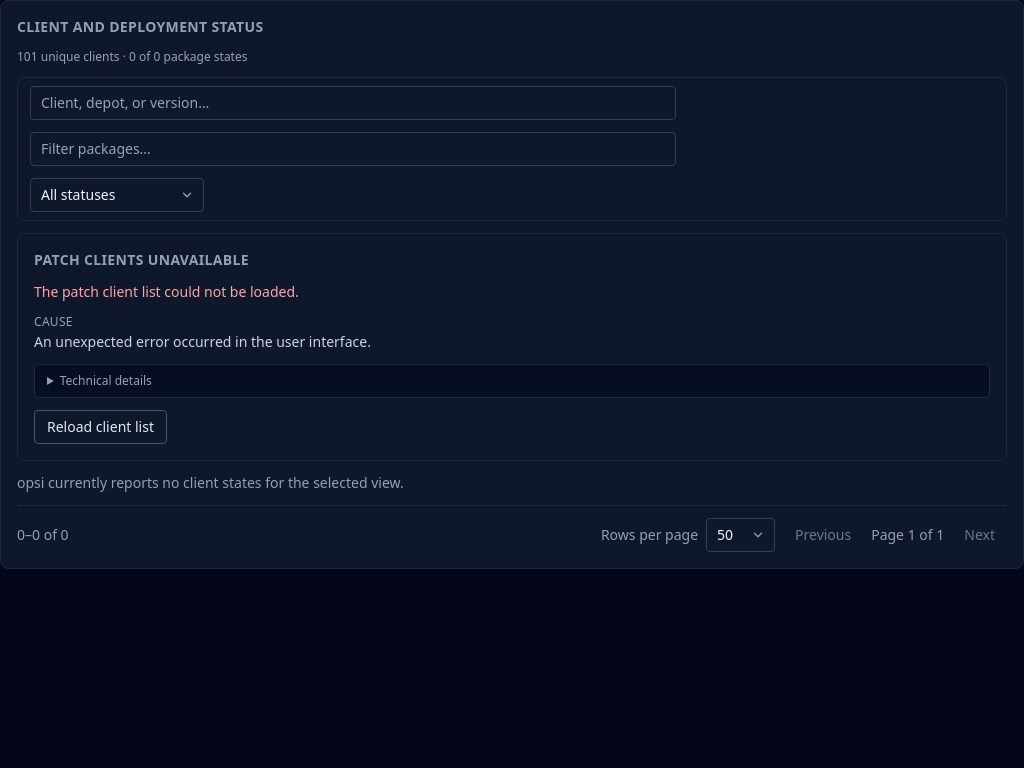
Test: PatchClientFleetCard › keeps an unavailable client page local and retries only its read request
Expected: the text "The patch client list could not be loaded." is shown, [34,282,299,301]
Step 1. Click the button "Reload client list" → (100,427), box [34,410,167,444]
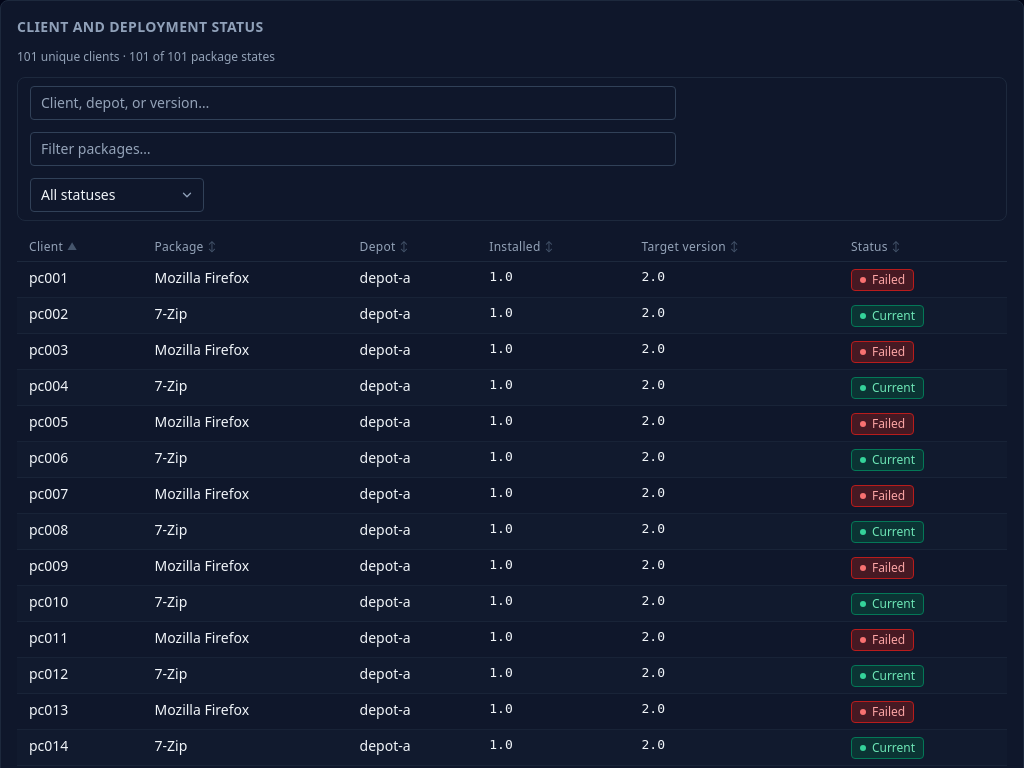
Result: the text "pc001" is shown at [29,268,68,287]
